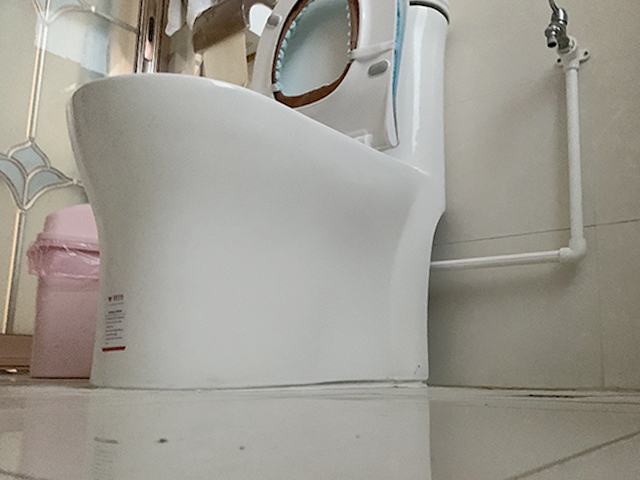closestool: (65, 1, 450, 389)
trashcan: (27, 201, 100, 380)
